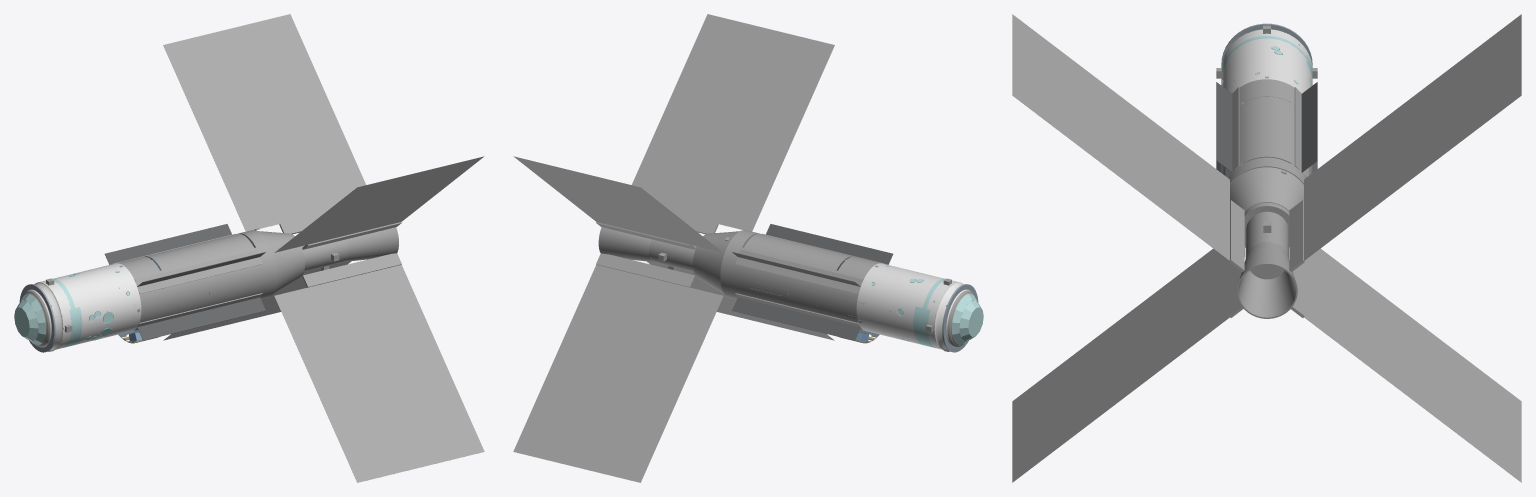
Rendered from wayfarer_bay_fullship_88ce19fc_metric_hard_stowed.glb.
3 views of the same model, side by side, from view 1: azimuth 30°, elevation 25°; view 2: azimuth 150°, elevation 25°; view 3: azimuth 270°, elevation 25° (orthographic). The views are drawn at different scales.
Visible parts, largest first — view 1: dry:hotfin_220:folded_envelope, dry:hotfin_40:folded_envelope, dry:hotfin_140:folded_envelope, dry:armor, dry:skin_midship, dry:strake_220:extended_pleat_00, dry:strake_140:stowed_stack, dry:strake_40:extended_pleat_00, dry:thrust_cone, dry:skin_service, dry:door_port, dry:hotfin_root_220:root (+7 smaller); view 2: dry:hotfin_320:folded_envelope, dry:hotfin_140:folded_envelope, dry:hotfin_40:folded_envelope, dry:armor, dry:skin_midship, dry:strake_320:extended_pleat_00, dry:strake_40:stowed_stack, dry:strake_140:extended_pleat_00, dry:skin_service, dry:thrust_cone, dry:door_starboard, dry:hotfin_root_320:root (+7 smaller); view 3: dry:hotfin_40:folded_envelope, dry:hotfin_140:folded_envelope, dry:hotfin_220:folded_envelope, dry:hotfin_320:folded_envelope, dry:armor, dry:nozzle, dry:thrust_cone, dry:reactor, dry:door_port, dry:door_starboard, dry:strake_40:extended_pleat_00, dry:strake_140:extended_pleat_00 (+9 smaller).
Boxes of the visible parts, box(x1,y1,x2,y2) form: dry:hotfin_220:folded_envelope: box(274, 264, 484, 482); dry:hotfin_40:folded_envelope: box(163, 14, 365, 231); dry:hotfin_140:folded_envelope: box(274, 156, 484, 252); dry:armor: box(23, 263, 141, 350); dry:skin_midship: box(160, 247, 263, 316); dry:strake_220:extended_pleat_00: box(137, 297, 265, 340); dry:strake_140:stowed_stack: box(134, 249, 262, 293); dry:strake_40:extended_pleat_00: box(104, 224, 231, 264); dry:thrust_cone: box(258, 231, 304, 293); dry:skin_service: box(117, 256, 168, 330); dry:door_port: box(152, 236, 253, 270); dry:hotfin_root_220:root: box(302, 253, 401, 287); dry:hotfin_320:folded_envelope: box(513, 264, 723, 482); dry:hotfin_140:folded_envelope: box(632, 14, 834, 231); dry:hotfin_40:folded_envelope: box(513, 156, 723, 252); dry:armor: box(856, 263, 974, 350); dry:skin_midship: box(734, 247, 837, 316); dry:strake_320:extended_pleat_00: box(732, 297, 860, 340); dry:strake_40:stowed_stack: box(735, 249, 863, 293); dry:strake_140:extended_pleat_00: box(766, 224, 893, 264); dry:skin_service: box(829, 256, 880, 330); dry:thrust_cone: box(693, 231, 739, 293); dry:door_starboard: box(744, 236, 845, 270); dry:hotfin_root_320:root: box(596, 253, 695, 287); dry:hotfin_40:folded_envelope: box(1304, 14, 1521, 260); dry:hotfin_140:folded_envelope: box(1012, 14, 1229, 260); dry:hotfin_220:folded_envelope: box(1012, 248, 1229, 482); dry:hotfin_320:folded_envelope: box(1304, 248, 1521, 482); dry:armor: box(1221, 29, 1312, 93); dry:nozzle: box(1237, 242, 1297, 318); dry:thrust_cone: box(1230, 167, 1303, 247); dry:reactor: box(1245, 211, 1288, 279); dry:door_port: box(1242, 97, 1266, 163); dry:door_starboard: box(1267, 97, 1291, 163); dry:strake_40:extended_pleat_00: box(1301, 82, 1317, 172); dry:strake_140:extended_pleat_00: box(1216, 82, 1232, 172).
Size of the model in its own units: 54.5 by 42.11 by 50.18.
